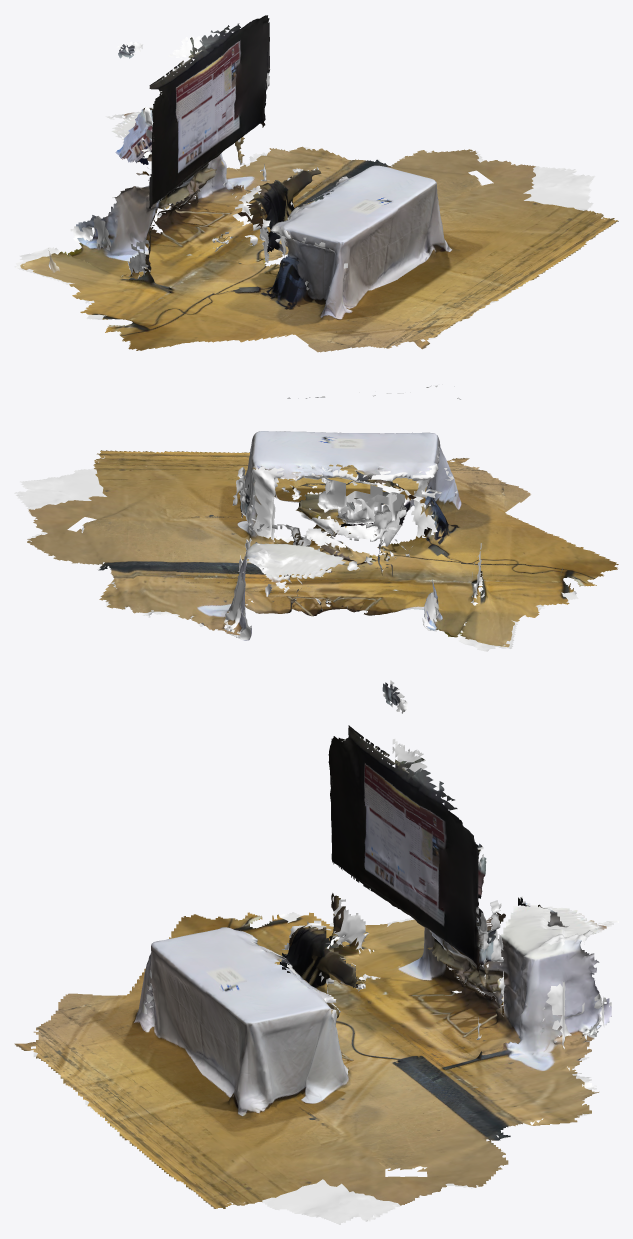
3 views of the same model, one above another, from view 1: azimuth 30°, elevation 25°; view 2: azimuth 150°, elevation 25°; view 3: azimuth 270°, elevation 25° (orthographic). The views are drawn at different scales.
Visible parts, largest first — view 1: texture_0, texture_1, object 1; view 2: texture_0, texture_1, object 1; view 3: texture_1, texture_0, object 1.
Boxes of the visible parts, x1,y1,x2,y2 form: texture_0: [100, 30, 618, 352]; texture_1: [20, 15, 488, 324]; object 1: [14, 33, 595, 348]; texture_0: [27, 397, 618, 618]; texture_1: [83, 395, 569, 647]; object 1: [14, 385, 616, 651]; texture_1: [138, 682, 611, 1169]; texture_0: [14, 789, 591, 1208]; object 1: [14, 680, 618, 1224].
Size of the model in its own units: 6.21 by 2.48 by 4.92.
Materials: 3 (2 with a texture image).
